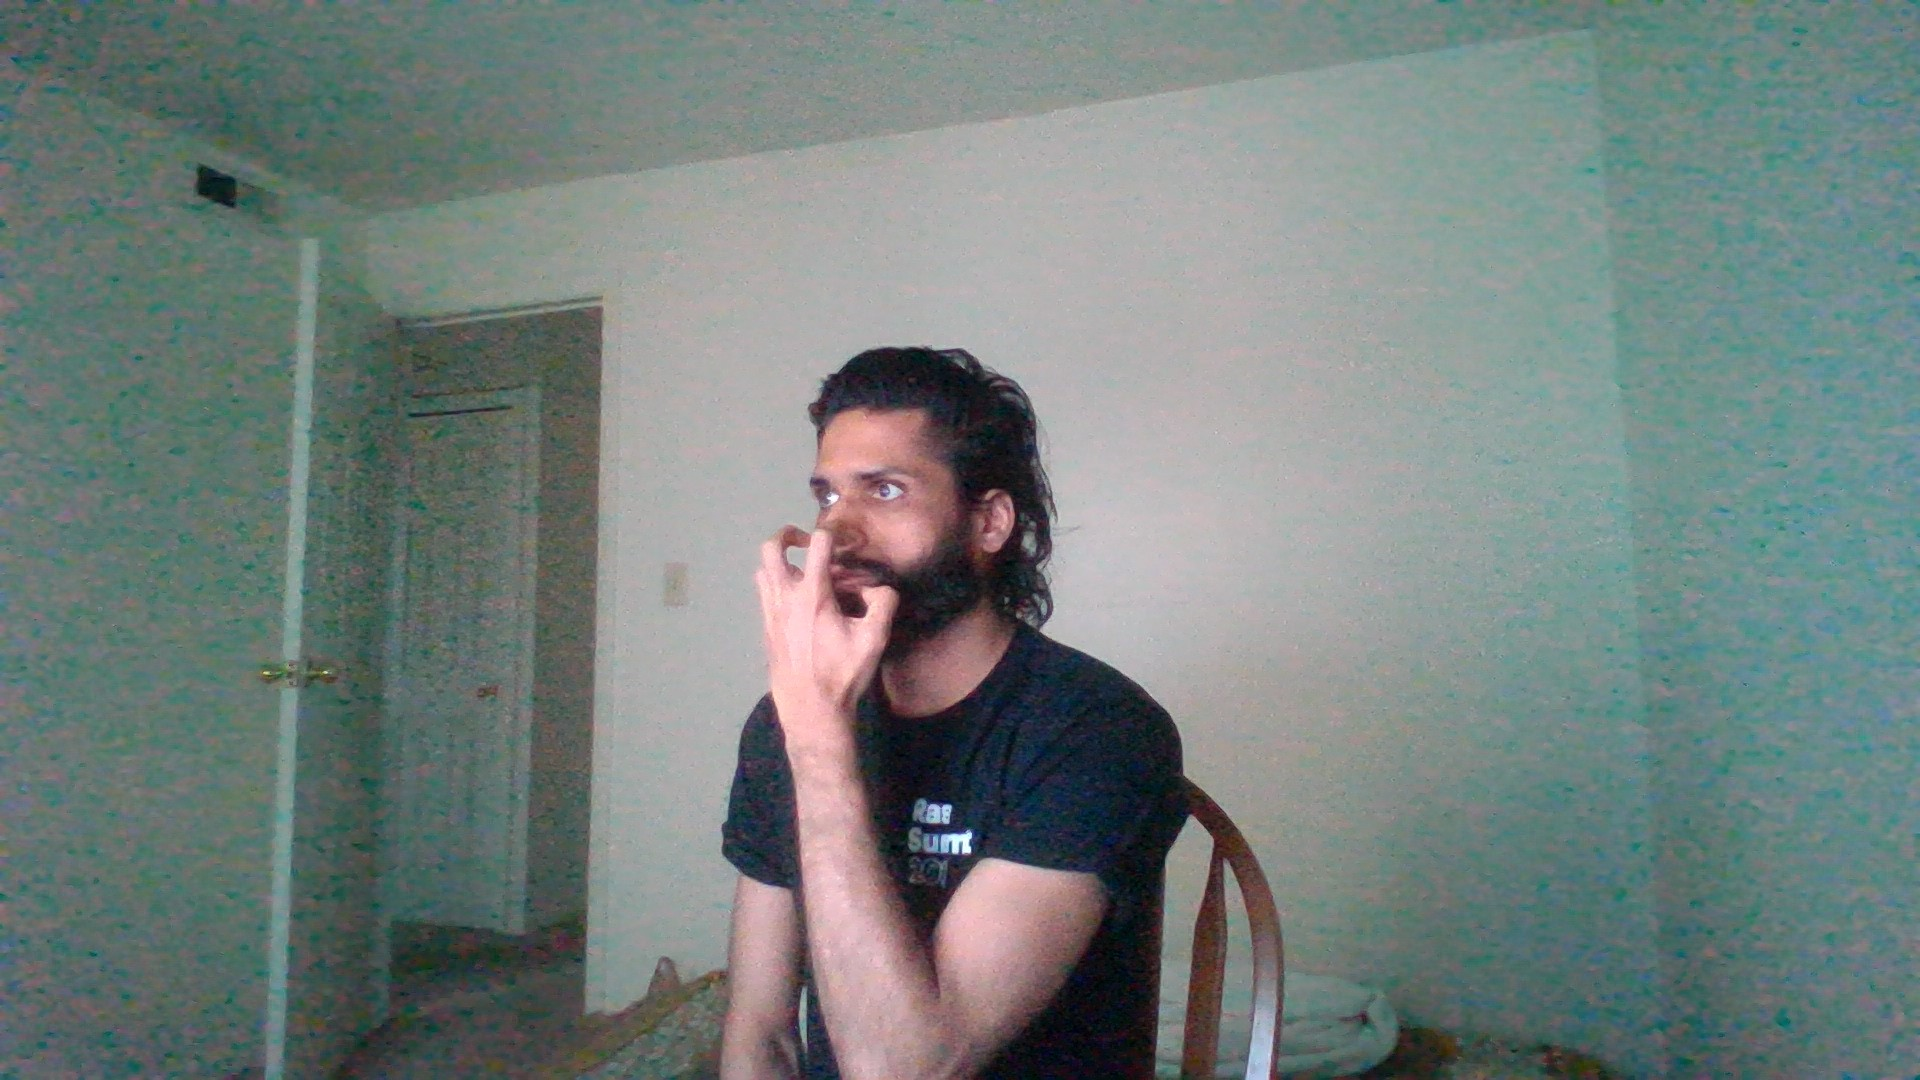Mad: (716, 514, 924, 731)
